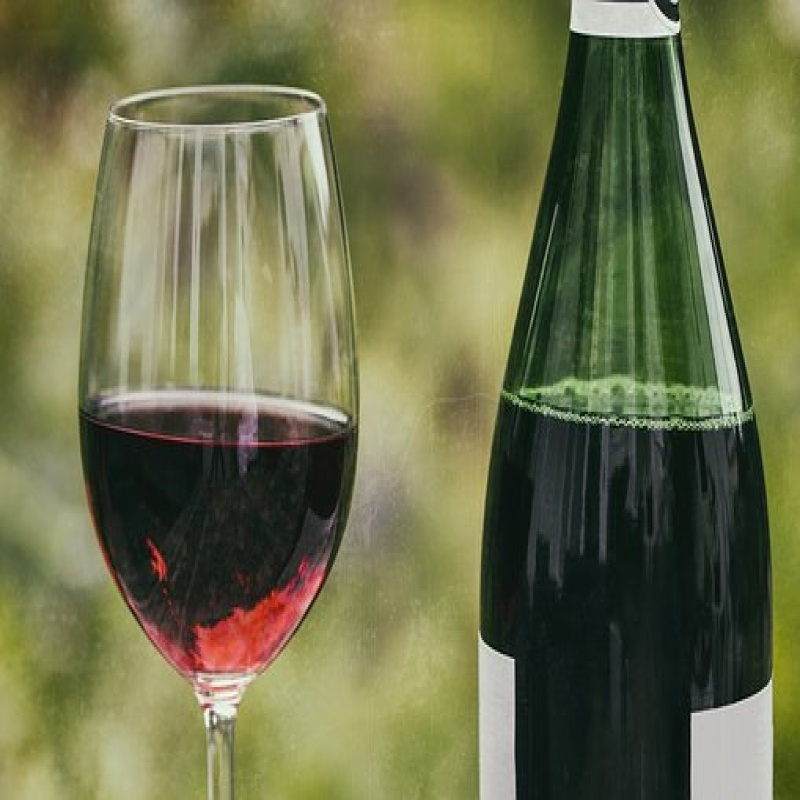wine: (483, 7, 781, 800)
